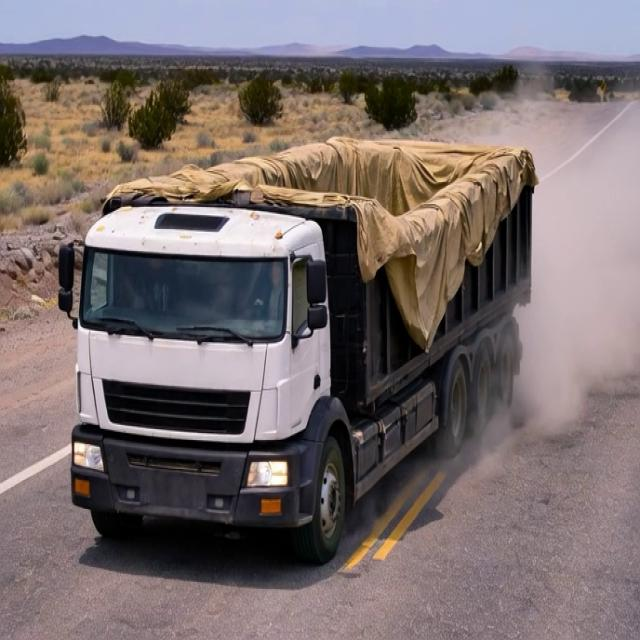Box: (132, 120, 557, 228)
Truck: (52, 98, 594, 543)
